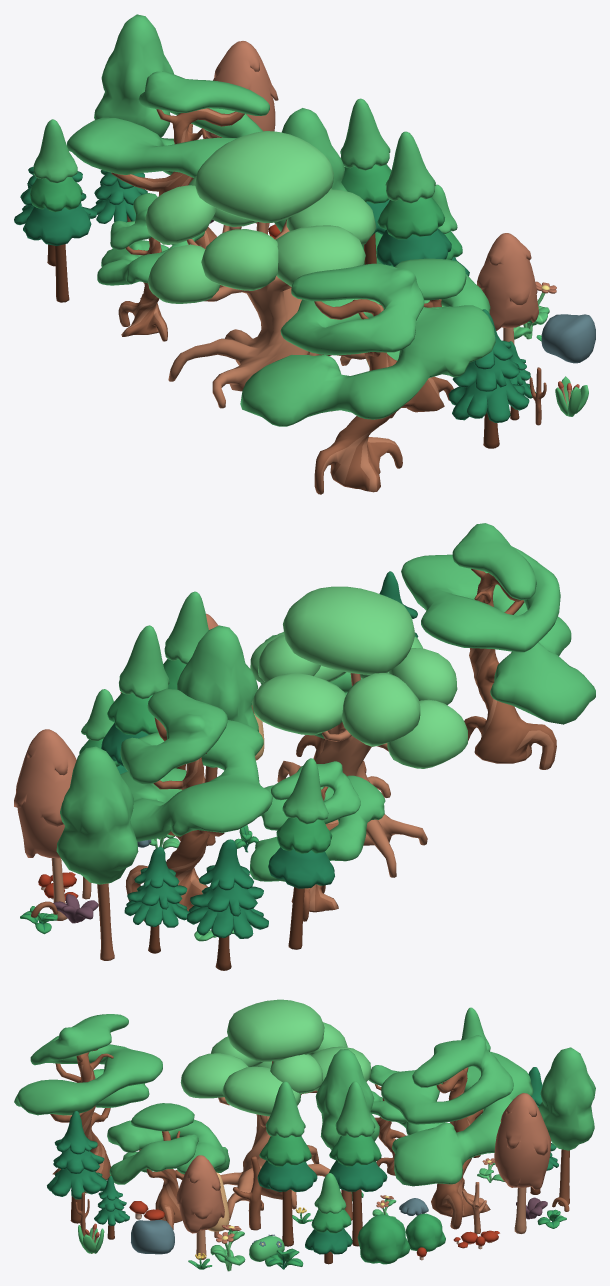
The model's file is customforest.gltf.
3 views of the same model, one above another, from view 1: azimuth 30°, elevation 25°; view 2: azimuth 150°, elevation 25°; view 3: azimuth 270°, elevation 25° (orthographic). The views are drawn at different scales.
Visible parts, largest first — view 1: TreeGiant_B_01_LOD1_Mat_Nature_0.001, TreeGiant_A_02_LOD1_Mat_Nature_0.005, TreeGiant_A_02_LOD1_Mat_Nature_0.003, Conifer_04_LOD1_Mat_Nature_0.002, Conifer_05_LOD1_Mat_Nature_0.001, Tree_E_01_LOD1_Mat_Nature_0.001, TreeGiant_A_02_LOD1_Mat_Nature_0.004, Pine_05_LOD1_Mat_Nature_0.001, Tree_F_03_LOD1_Mat_Nature_0.001, Conifer_04_LOD1_Mat_Nature_0.001, TreeGiant_A_01_LOD1_Mat_Nature_0.001, Tree_F_01_LOD1_Mat_Nature_0.001 (+8 smaller); view 2: TreeGiant_B_01_LOD1_Mat_Nature_0.001, TreeGiant_A_02_LOD1_Mat_Nature_0.005, TreeGiant_A_02_LOD1_Mat_Nature_0.003, Tree_E_01_LOD1_Mat_Nature_0.001, TreeGiant_A_02_LOD1_Mat_Nature_0.004, Conifer_05_LOD1_Mat_Nature_0.001, Tree_F_01_LOD1_Mat_Nature_0.001, Tree_E_01_LOD1_Mat_Nature_0.002, Pine_04_LOD1_Mat_Nature_0.001, Conifer_04_LOD1_Mat_Nature_0.001, Pine_04_LOD1_Mat_Nature_0.002, Conifer_04_LOD1_Mat_Nature_0.002 (+3 smaller); view 3: TreeGiant_A_02_LOD1_Mat_Nature_0.003, TreeGiant_B_01_LOD1_Mat_Nature_0.001, TreeGiant_A_02_LOD1_Mat_Nature_0.005, TreeGiant_A_01_LOD1_Mat_Nature_0.001, Tree_E_01_LOD1_Mat_Nature_0.001, Conifer_04_LOD1_Mat_Nature_0.002, Tree_F_01_LOD1_Mat_Nature_0.001, Conifer_04_LOD1_Mat_Nature_0.001, Pine_05_LOD1_Mat_Nature_0.001, Tree_E_01_LOD1_Mat_Nature_0.002, Tree_F_03_LOD1_Mat_Nature_0.001, Conifer_03_LOD1_Mat_Nature_0.001 (+15 smaller).
Part boxes in pixels (box(x1,y1,x2,y2)): TreeGiant_B_01_LOD1_Mat_Nature_0.001: box(145, 131, 376, 408); TreeGiant_A_02_LOD1_Mat_Nature_0.005: box(240, 263, 495, 494); TreeGiant_A_02_LOD1_Mat_Nature_0.003: box(67, 71, 269, 287); Conifer_04_LOD1_Mat_Nature_0.002: box(376, 131, 451, 266); Conifer_05_LOD1_Mat_Nature_0.001: box(24, 119, 91, 302); Tree_E_01_LOD1_Mat_Nature_0.001: box(94, 14, 173, 221); TreeGiant_A_02_LOD1_Mat_Nature_0.004: box(97, 193, 204, 341); Pine_05_LOD1_Mat_Nature_0.001: box(448, 309, 529, 448); Tree_F_03_LOD1_Mat_Nature_0.001: box(477, 233, 538, 344); Conifer_04_LOD1_Mat_Nature_0.001: box(340, 98, 391, 264); TreeGiant_A_01_LOD1_Mat_Nature_0.001: box(366, 258, 490, 418); Tree_F_01_LOD1_Mat_Nature_0.001: box(202, 41, 278, 230); TreeGiant_B_01_LOD1_Mat_Nature_0.001: box(250, 586, 467, 877); TreeGiant_A_02_LOD1_Mat_Nature_0.005: box(401, 523, 595, 769); TreeGiant_A_02_LOD1_Mat_Nature_0.003: box(120, 688, 272, 921); Tree_E_01_LOD1_Mat_Nature_0.001: box(56, 746, 138, 960); TreeGiant_A_02_LOD1_Mat_Nature_0.004: box(250, 761, 385, 921); Conifer_05_LOD1_Mat_Nature_0.001: box(268, 758, 334, 949); Tree_F_01_LOD1_Mat_Nature_0.001: box(14, 729, 76, 920); Tree_E_01_LOD1_Mat_Nature_0.002: box(177, 625, 258, 845); Pine_04_LOD1_Mat_Nature_0.001: box(187, 839, 268, 970); Conifer_04_LOD1_Mat_Nature_0.001: box(101, 625, 169, 766); Pine_04_LOD1_Mat_Nature_0.002: box(124, 847, 188, 953); Conifer_04_LOD1_Mat_Nature_0.002: box(163, 591, 208, 770); TreeGiant_A_02_LOD1_Mat_Nature_0.003: box(381, 1035, 533, 1229); TreeGiant_B_01_LOD1_Mat_Nature_0.001: box(180, 999, 370, 1220); TreeGiant_A_02_LOD1_Mat_Nature_0.005: box(14, 1014, 162, 1193); TreeGiant_A_01_LOD1_Mat_Nature_0.001: box(107, 1103, 229, 1229); Tree_E_01_LOD1_Mat_Nature_0.001: box(538, 1047, 595, 1206); Conifer_04_LOD1_Mat_Nature_0.002: box(257, 1081, 317, 1246); Tree_F_01_LOD1_Mat_Nature_0.001: box(494, 1093, 551, 1233); Conifer_04_LOD1_Mat_Nature_0.001: box(329, 1081, 387, 1246); Pine_05_LOD1_Mat_Nature_0.001: box(47, 1111, 106, 1223); Tree_E_01_LOD1_Mat_Nature_0.002: box(315, 1049, 379, 1220); Tree_F_03_LOD1_Mat_Nature_0.001: box(176, 1155, 224, 1259); Conifer_03_LOD1_Mat_Nature_0.001: box(305, 1173, 352, 1264).
Size of the model in its own units: 134 by 81.39 by 229.
40 materials, 40 textured.
